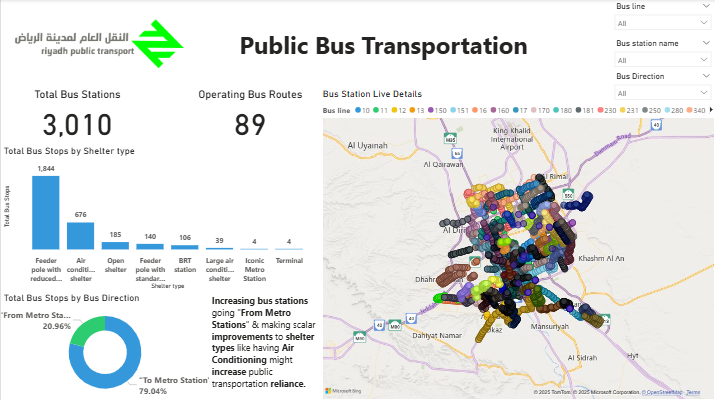

The page's visual inventory and layout, read from the dashboard file:
{"tool":"powerbi","page":{"name":"Public Bus Transportation","canvas":[1280,720],"ordinal":3},"visuals":[{"type":"columnChart","fields":{"Y":["__Measures.Total Bus Stops"],"Category":["Riydh Bus Stops by Direction & Shelter.Shelter type"]},"box":[12.8,224,550.8,271.1],"z":0},{"type":"card","title":"Total Bus Stations","fields":{"Values":["__Measures.Total Bus Stops"]},"box":[12.8,610.9,143.1,107.7],"z":1000},{"type":"card","title":"Operating Bus Routes","fields":{"Values":["Count(Riydh Bus Stops by Direction & Shelter.Bus line)"]},"box":[12.8,498.9,143.1,107.7],"z":2000},{"type":"donutChart","fields":{"Category":["Riydh Bus Stops by Direction & Shelter.Bus Direction"],"Y":["__Measures.Total Bus Stops"]},"box":[160.2,500.3,403.9,216.9],"z":3000},{"type":"image","box":[0,0,329.6,158.4],"z":4000},{"type":"slicer","fields":{"Values":["Riydh Bus Stops by Direction & Shelter.Bus station name"]},"box":[149.8,158.4,192.6,61.4],"z":5000},{"type":"slicer","fields":{"Values":["Riydh Bus Stops by Direction & Shelter.Bus line"]},"box":[12.8,158.4,108.5,61.4],"z":6000},{"type":"map","title":"Bus Station Live Details","fields":{"Y":["Riydh Bus Stops by Direction & Shelter.Latitude"],"X":["Riydh Bus Stops by Direction & Shelter.Longitude"],"Series":["Riydh Bus Stops by Direction & Shelter.Bus line"]},"box":[570.8,158.4,709.2,562.2],"z":7000},{"type":"slicer","fields":{"Values":["Riydh Bus Stops by Direction & Shelter.Bus Direction"]},"box":[371,158.4,192.6,61.4],"z":8000},{"type":"pageNavigator","box":[329.6,0,950.4,158.4],"z":9000}]}

Visuals, with their boxes in screenshot pixels (x1, y1, x2, y2), scaled from the page's 1280x720 canvas onto the 715x400 screenshot:
columnChart - __Measures.Total Bus Stops x Riydh Bus Stops by Direction & Shelter.Shelter type: box=[7, 124, 315, 275]
"Total Bus Stations" card: box=[7, 339, 87, 399]
"Operating Bus Routes" card: box=[7, 277, 87, 337]
donutChart - Riydh Bus Stops by Direction & Shelter.Bus Direction x __Measures.Total Bus Stops: box=[89, 278, 315, 398]
image: box=[0, 0, 184, 88]
slicer - Riydh Bus Stops by Direction & Shelter.Bus station name: box=[84, 88, 191, 122]
slicer - Riydh Bus Stops by Direction & Shelter.Bus line: box=[7, 88, 68, 122]
"Bus Station Live Details" map: box=[319, 88, 714, 399]
slicer - Riydh Bus Stops by Direction & Shelter.Bus Direction: box=[207, 88, 315, 122]
pageNavigator: box=[184, 0, 714, 88]
